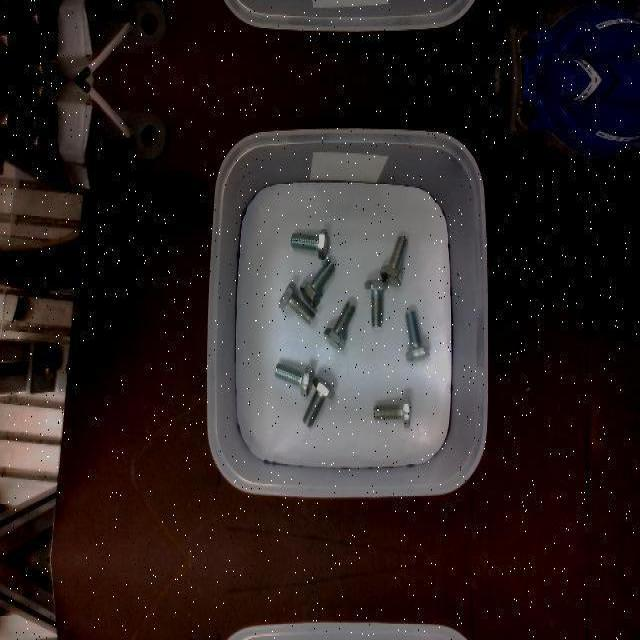screw: (299, 259, 335, 305), (302, 376, 335, 426), (323, 301, 355, 351), (278, 281, 314, 323), (379, 235, 407, 285), (274, 361, 314, 395), (405, 310, 430, 362), (373, 394, 411, 428), (290, 229, 328, 259), (365, 279, 388, 327)
